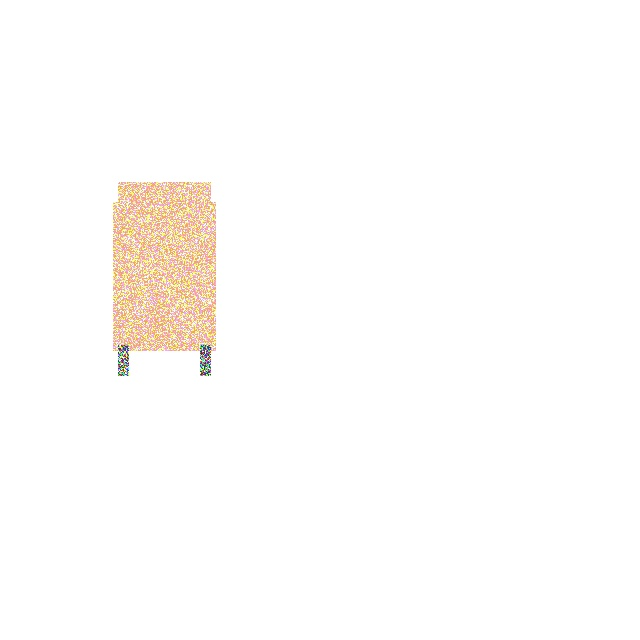Chaise: (112, 201, 216, 351)
